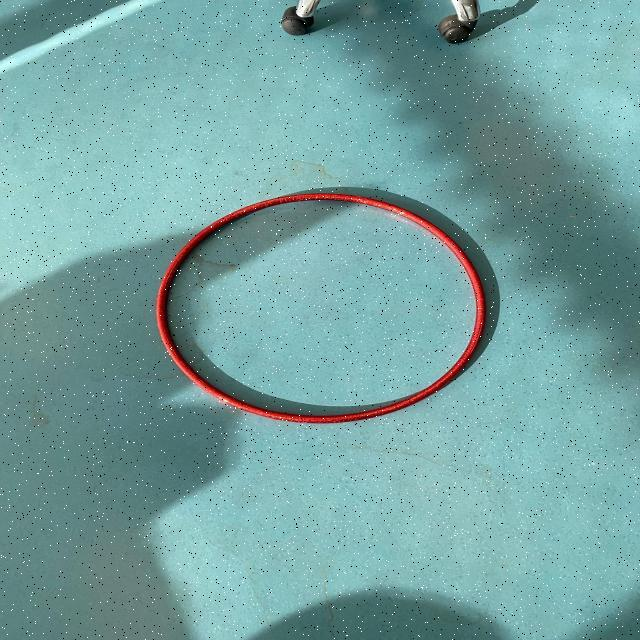Circle: (146, 186, 493, 426)
